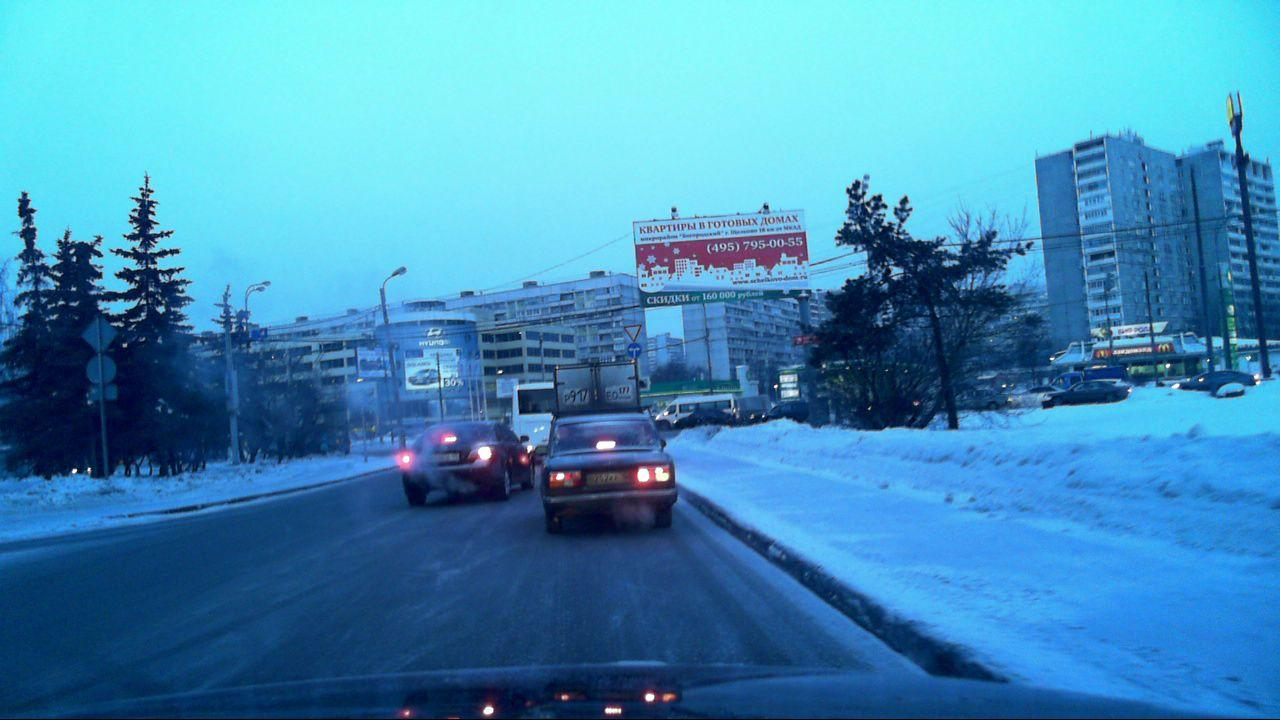2_4: (624, 324, 643, 342)
4_1_6: (626, 343, 641, 359)
